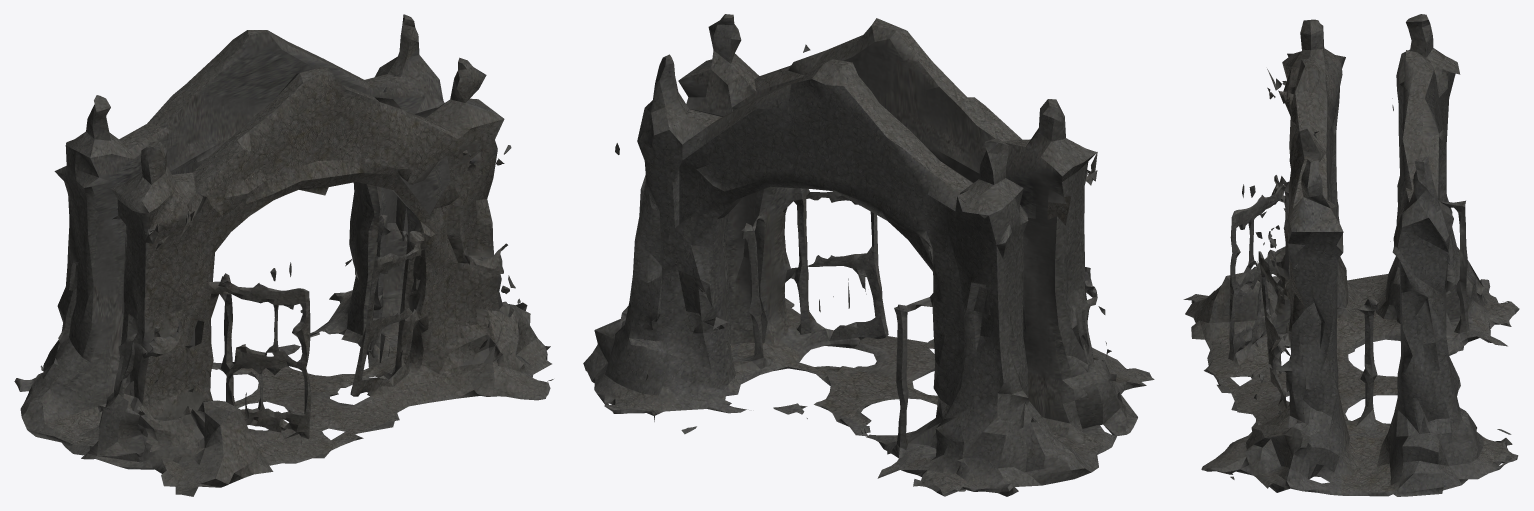
Rendered from b3-gate.glb.
3 renders of one model, left to right at view 1: azimuth 30°, elevation 25°; view 2: azimuth 150°, elevation 25°; view 3: azimuth 270°, elevation 25°, orthographic. The views are drawn at different scales.
Bounding box in the file's own units: 1.64 × 1.14 × 1.04.
1 material, 1 textured.
